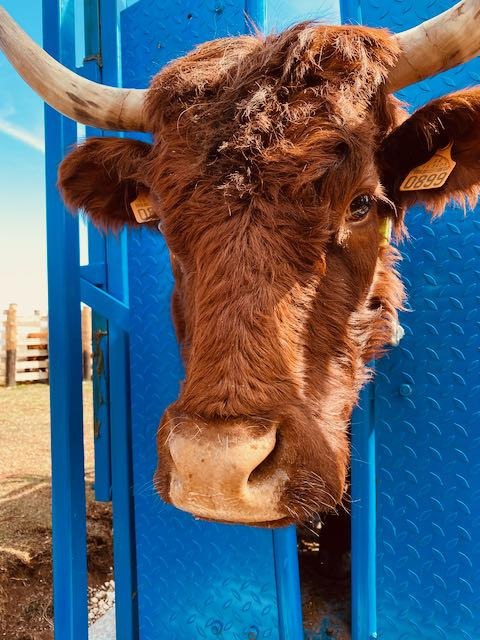muzzles: (143, 412, 329, 540)
